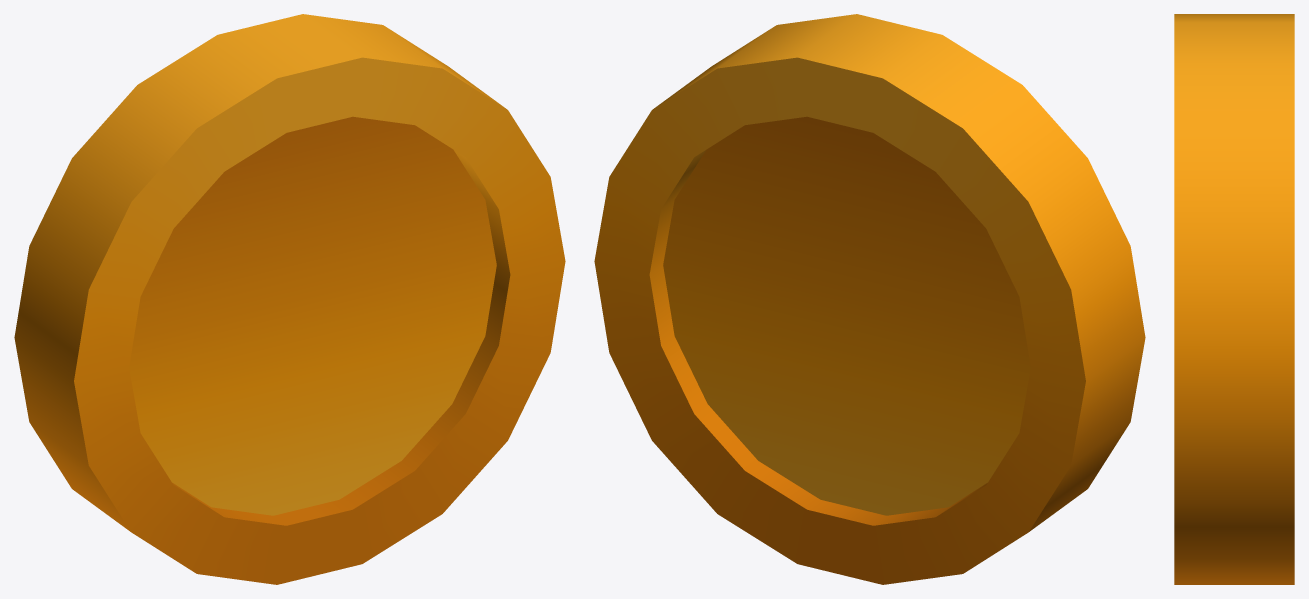
The model's file is Collectible_Coin_01.glb.
3 views of the same model, side by side, from view 1: azimuth 30°, elevation 25°; view 2: azimuth 150°, elevation 25°; view 3: azimuth 270°, elevation 25° (orthographic).
Parts seen in each view (by area): view 1: Collectible_Coin_01; view 2: Collectible_Coin_01; view 3: Collectible_Coin_01.
Part boxes in pixels (x1,y1,x2,y2): Collectible_Coin_01: (14, 14, 565, 584); Collectible_Coin_01: (594, 14, 1145, 584); Collectible_Coin_01: (1174, 14, 1294, 584).
Size of the model in its own units: 0.797 by 0.7849 by 0.1671.
Materials: 1 (1 with a texture image).
